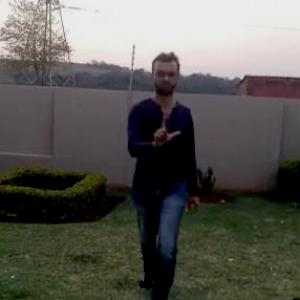land_hand: (148, 107, 185, 150)
